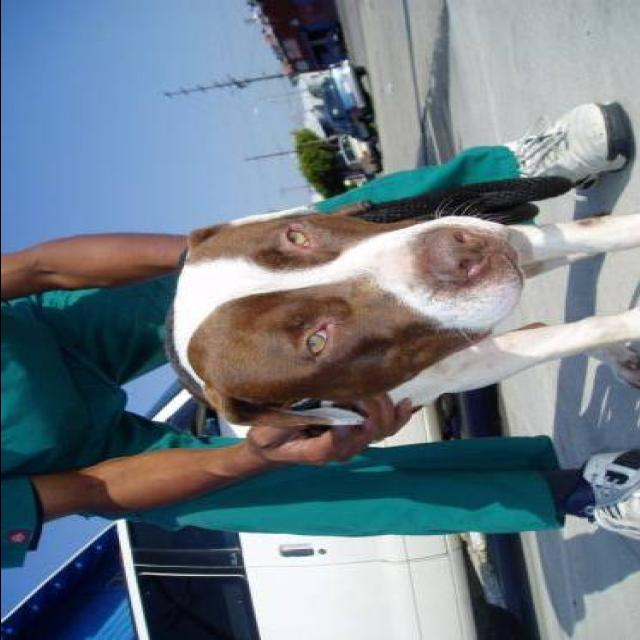dog: (142, 179, 640, 462)
